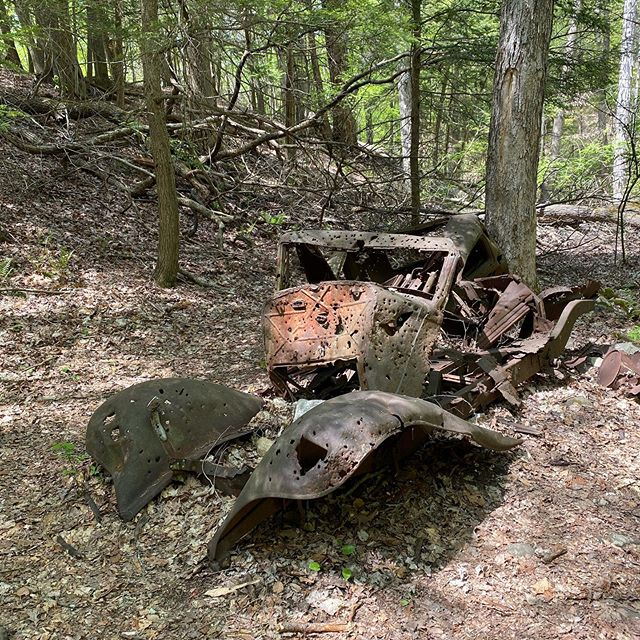trash: (134, 213, 575, 579)
vegetation: (1, 1, 640, 406)
